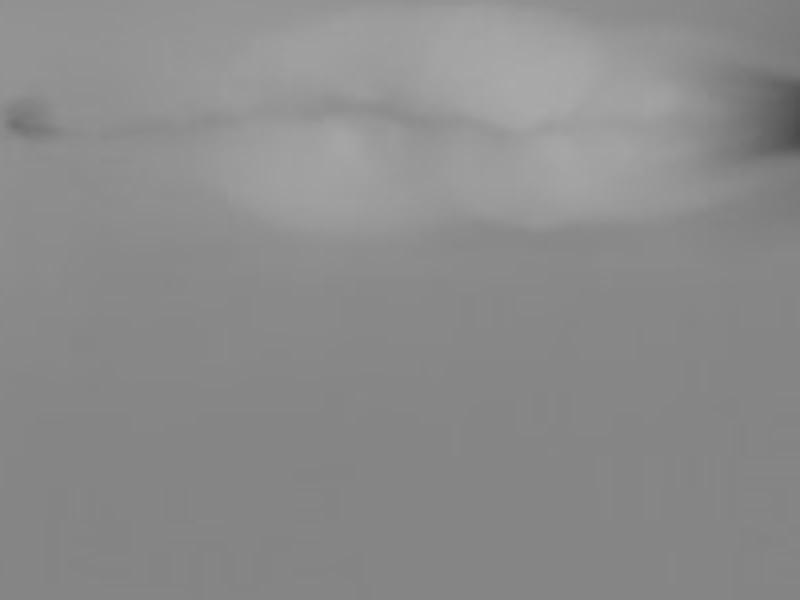defect: (5, 99, 50, 140)
